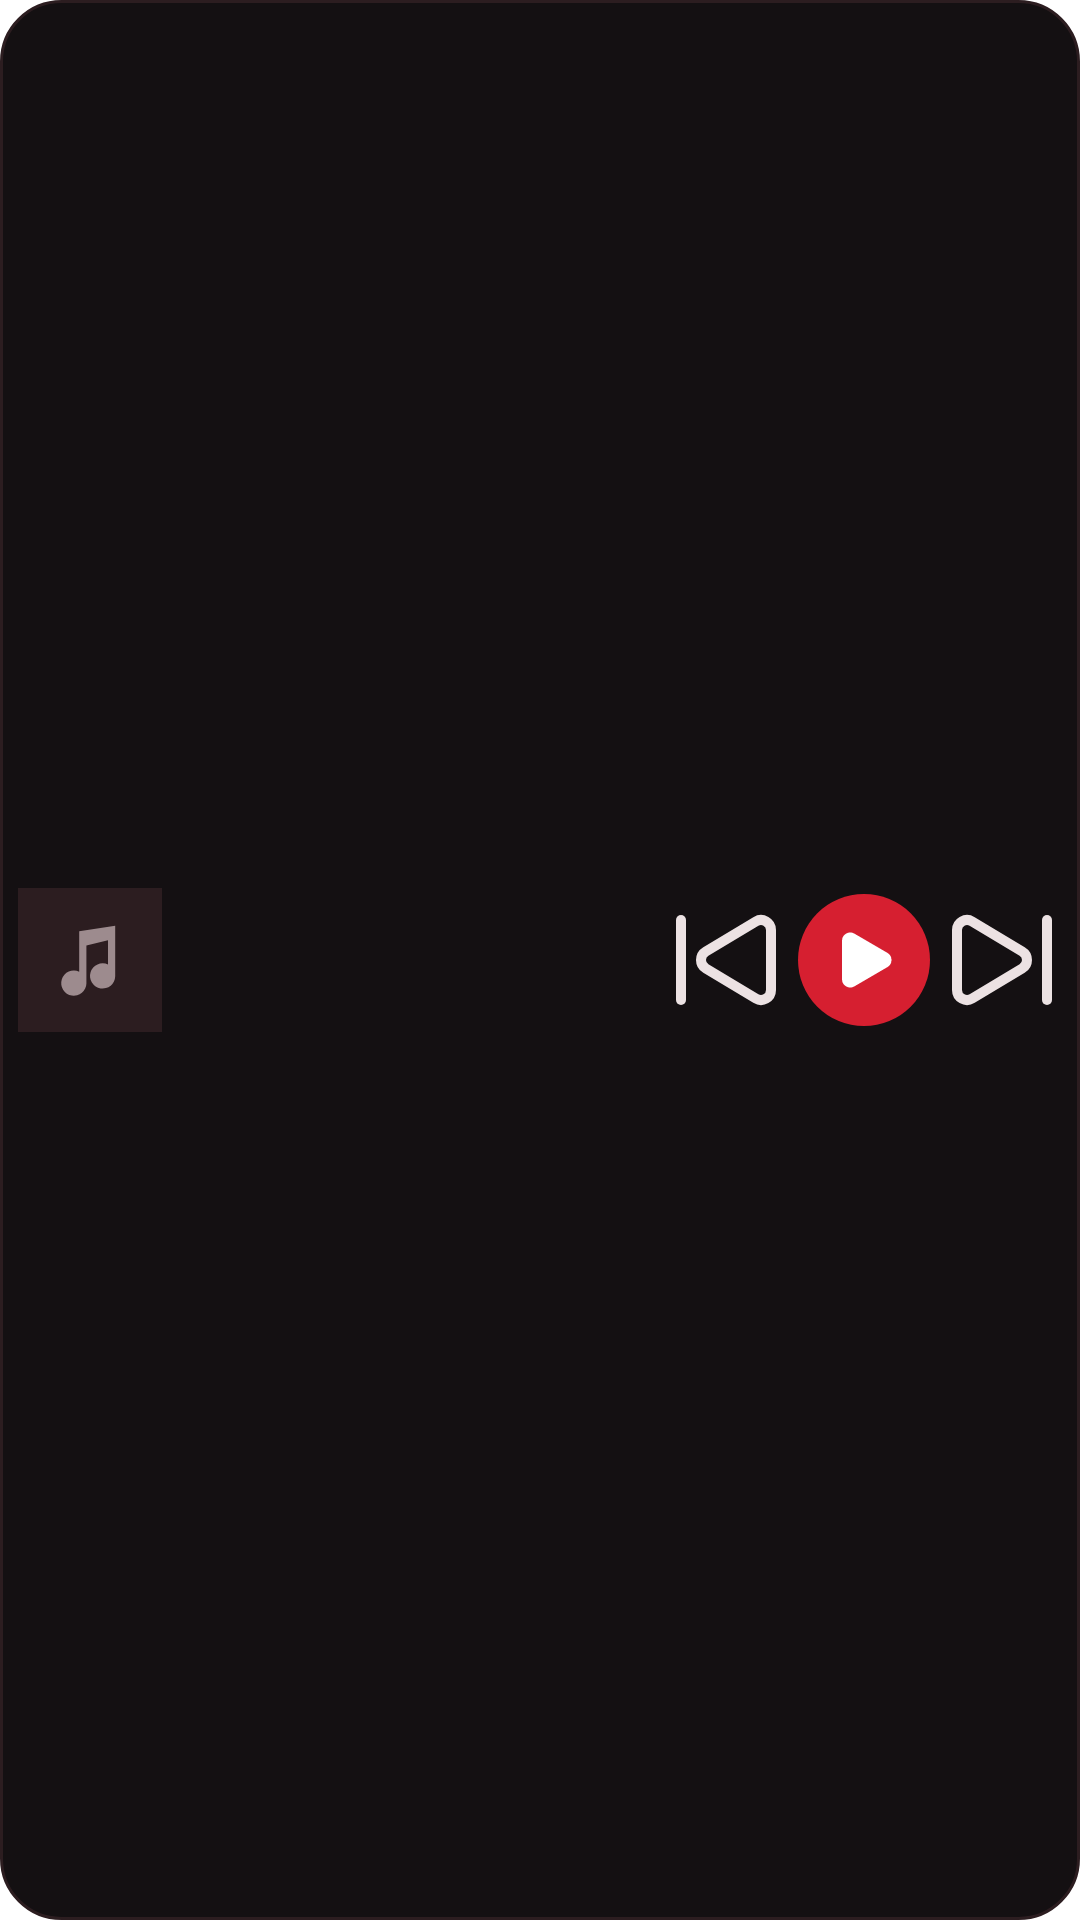

Where to tap for icons on this 1080px x 1920px app screen, as (x,y):
Anterior: (726,960)
Capa: (88,960)
Próxima: (1002,960)
Tocar ou pausar: (864,960)
